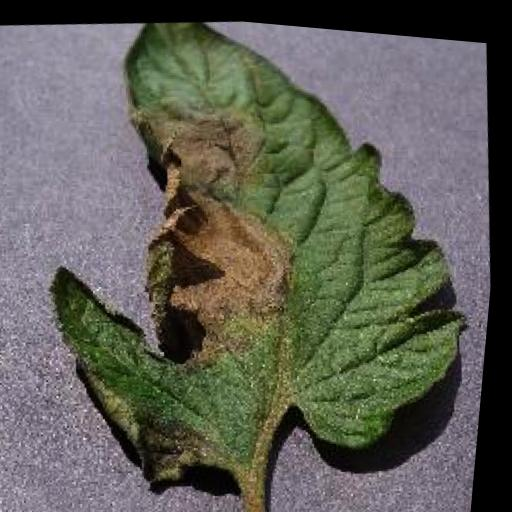Late Blight: (13, 3, 512, 512)
